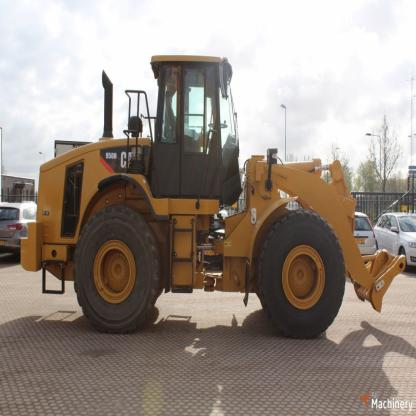bull_dozer/loader/grader: (17, 40, 391, 355)
